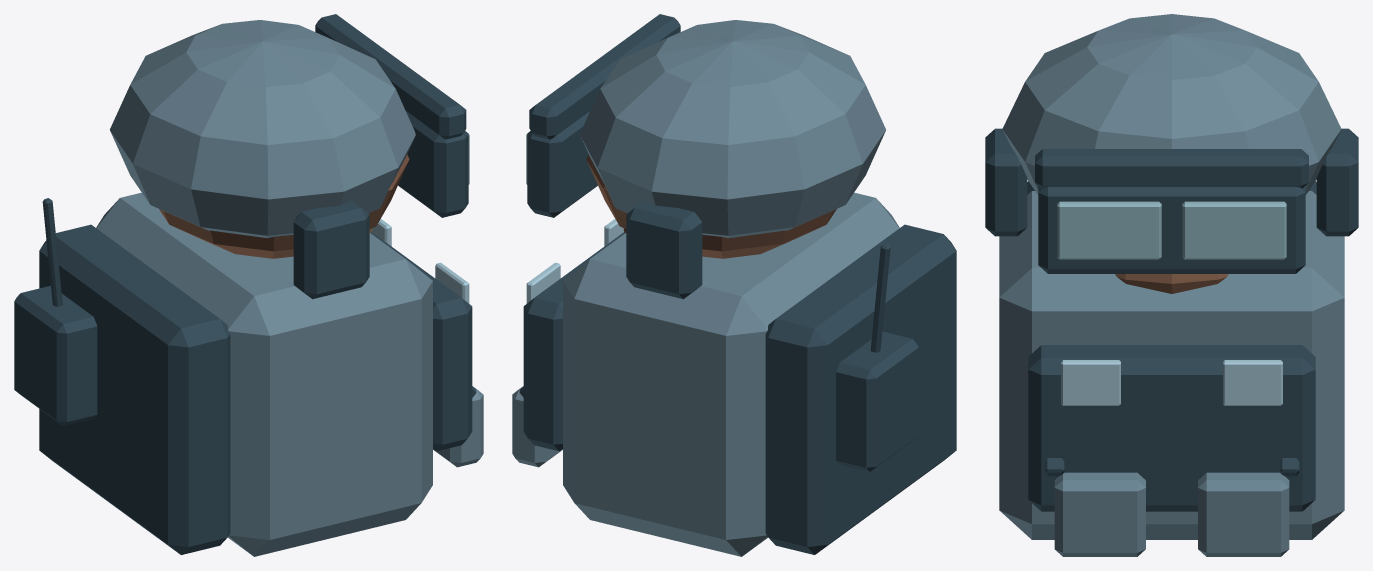
File: woodland-scout.signal-runner.glb
3 renders of one model, left to right at view 1: azimuth 30°, elevation 25°; view 2: azimuth 150°, elevation 25°; view 3: azimuth 270°, elevation 25°, orthographic. The views are drawn at different scales.
Parts seen in each view (by area): view 1: woodland-scout_signal-runner__main__torso_finish_6b8796_0.03, woodland-scout_signal-runner__main__torso_finish_334b58_0.03, woodland-scout_signal-runner__main__head_finish_6b8796_0.03, woodland-scout_signal-runner__main__head_finish_334b58_0.03, woodland-scout_signal-runner__main__head_finish_805b47_0.03, woodland-scout_signal-runner__main__torso_finish_a6c8d8_0.03; view 2: woodland-scout_signal-runner__main__torso_finish_6b8796_0.03, woodland-scout_signal-runner__main__torso_finish_334b58_0.03, woodland-scout_signal-runner__main__head_finish_6b8796_0.03, woodland-scout_signal-runner__main__head_finish_334b58_0.03, woodland-scout_signal-runner__main__head_finish_805b47_0.03, woodland-scout_signal-runner__main__torso_finish_a6c8d8_0.03; view 3: woodland-scout_signal-runner__main__torso_finish_6b8796_0.03, woodland-scout_signal-runner__main__head_finish_6b8796_0.03, woodland-scout_signal-runner__main__torso_finish_334b58_0.03, woodland-scout_signal-runner__main__head_finish_334b58_0.03, woodland-scout_signal-runner__main__head_finish_91b6c0_0.03, woodland-scout_signal-runner__main__torso_finish_a6c8d8_0.03, woodland-scout_signal-runner__main__head_finish_805b47_0.03.
Boxes of the visible parts, bbox=[...] form: woodland-scout_signal-runner__main__torso_finish_6b8796_0.03: bbox=[96, 192, 483, 556]; woodland-scout_signal-runner__main__torso_finish_334b58_0.03: bbox=[14, 198, 476, 554]; woodland-scout_signal-runner__main__head_finish_6b8796_0.03: bbox=[110, 20, 415, 237]; woodland-scout_signal-runner__main__head_finish_334b58_0.03: bbox=[293, 14, 468, 299]; woodland-scout_signal-runner__main__head_finish_805b47_0.03: bbox=[159, 154, 409, 258]; woodland-scout_signal-runner__main__torso_finish_a6c8d8_0.03: bbox=[371, 219, 469, 303]; woodland-scout_signal-runner__main__torso_finish_6b8796_0.03: bbox=[512, 192, 899, 556]; woodland-scout_signal-runner__main__torso_finish_334b58_0.03: bbox=[519, 224, 956, 554]; woodland-scout_signal-runner__main__head_finish_6b8796_0.03: bbox=[580, 20, 885, 237]; woodland-scout_signal-runner__main__head_finish_334b58_0.03: bbox=[527, 14, 702, 299]; woodland-scout_signal-runner__main__head_finish_805b47_0.03: bbox=[586, 154, 836, 258]; woodland-scout_signal-runner__main__torso_finish_a6c8d8_0.03: bbox=[526, 219, 624, 303]; woodland-scout_signal-runner__main__torso_finish_6b8796_0.03: bbox=[999, 191, 1344, 556]; woodland-scout_signal-runner__main__head_finish_6b8796_0.03: bbox=[1002, 14, 1341, 194]; woodland-scout_signal-runner__main__torso_finish_334b58_0.03: bbox=[1027, 181, 1316, 511]; woodland-scout_signal-runner__main__head_finish_334b58_0.03: bbox=[985, 128, 1358, 273]; woodland-scout_signal-runner__main__head_finish_91b6c0_0.03: bbox=[1057, 201, 1286, 259]; woodland-scout_signal-runner__main__torso_finish_a6c8d8_0.03: bbox=[1061, 360, 1282, 405]; woodland-scout_signal-runner__main__head_finish_805b47_0.03: bbox=[1115, 274, 1228, 293].
Size of the model in its own units: 33.65 by 39.5 by 28.6.
